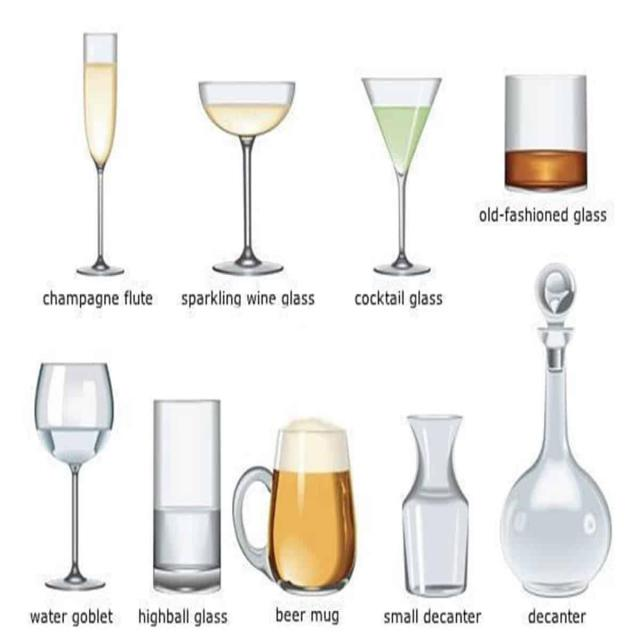non-organic waste: (494, 246, 615, 599), (229, 400, 367, 606), (27, 351, 120, 605), (191, 66, 298, 286), (355, 65, 443, 286), (141, 383, 229, 602), (70, 23, 135, 286), (392, 396, 474, 604), (493, 60, 594, 199)
